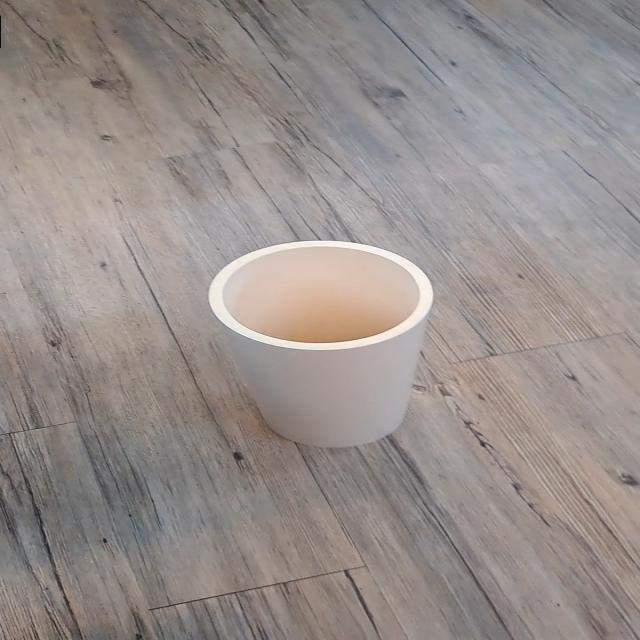CORAL: (193, 215, 447, 453)
